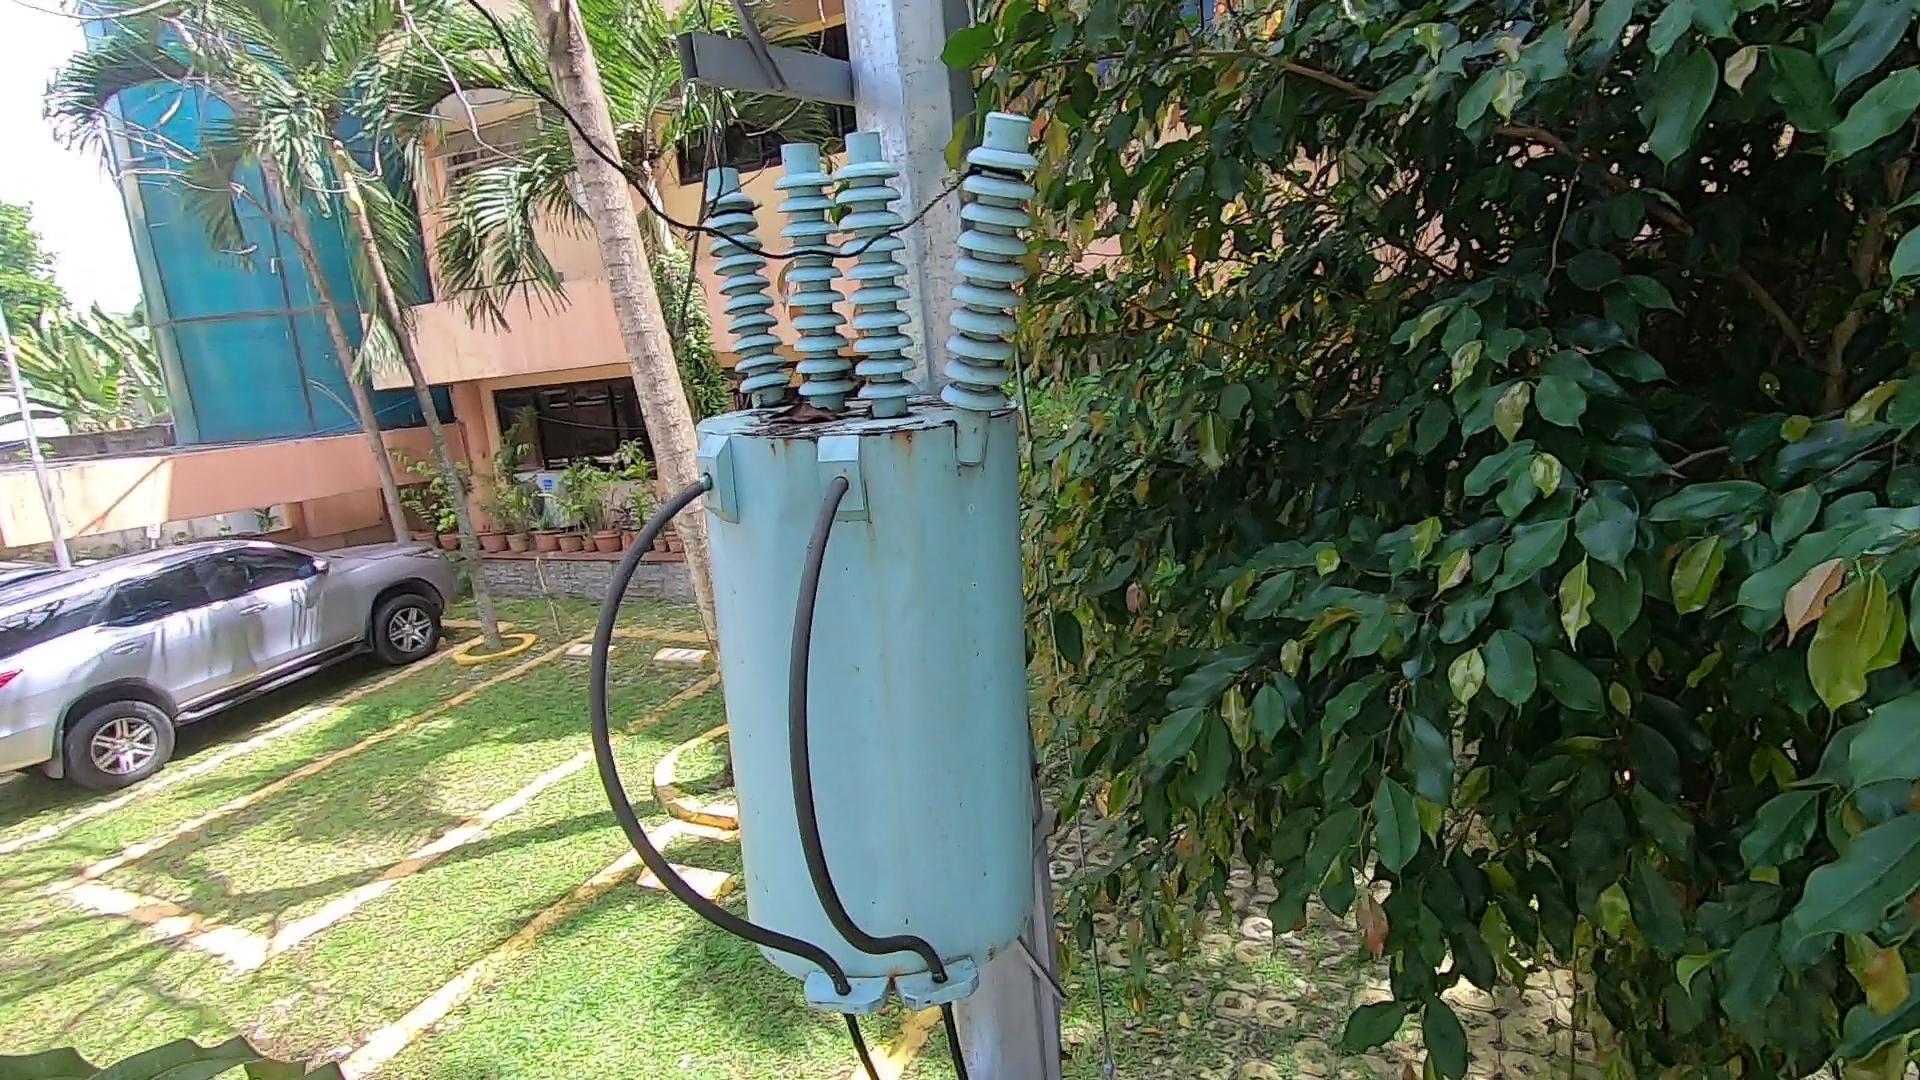leaf: (764, 396, 852, 435)
tree branch: (649, 16, 765, 369)
